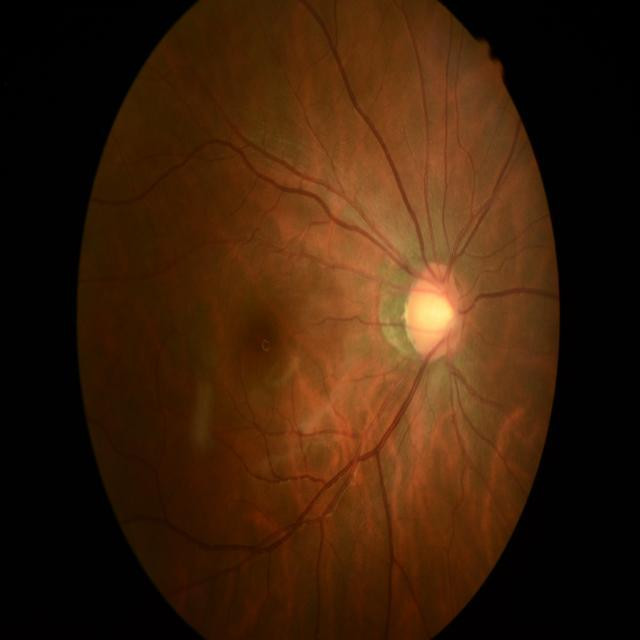cup: (416, 286, 454, 350)
disk: (404, 262, 466, 362)
